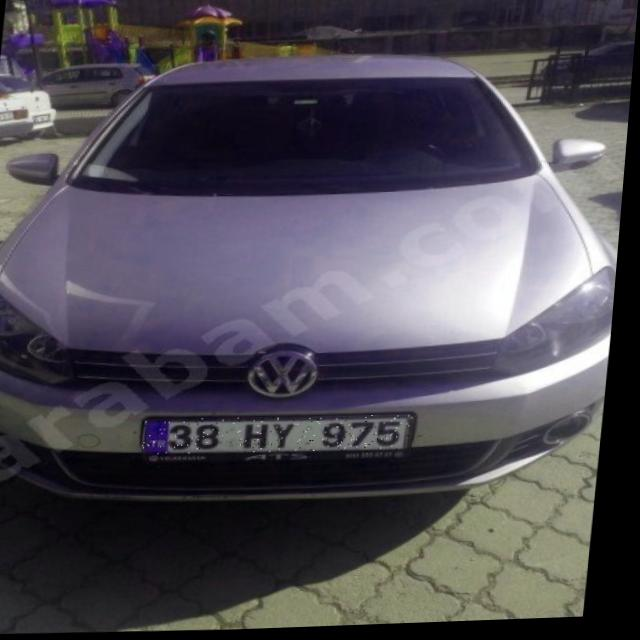license_plate: (149, 412, 421, 460)
